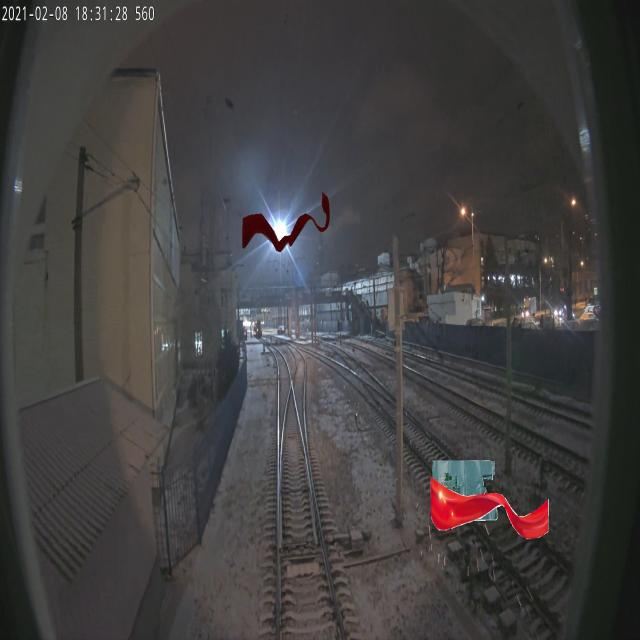floating object: (428, 476, 551, 540), (241, 190, 331, 253)
plastic bag: (432, 458, 498, 522)
